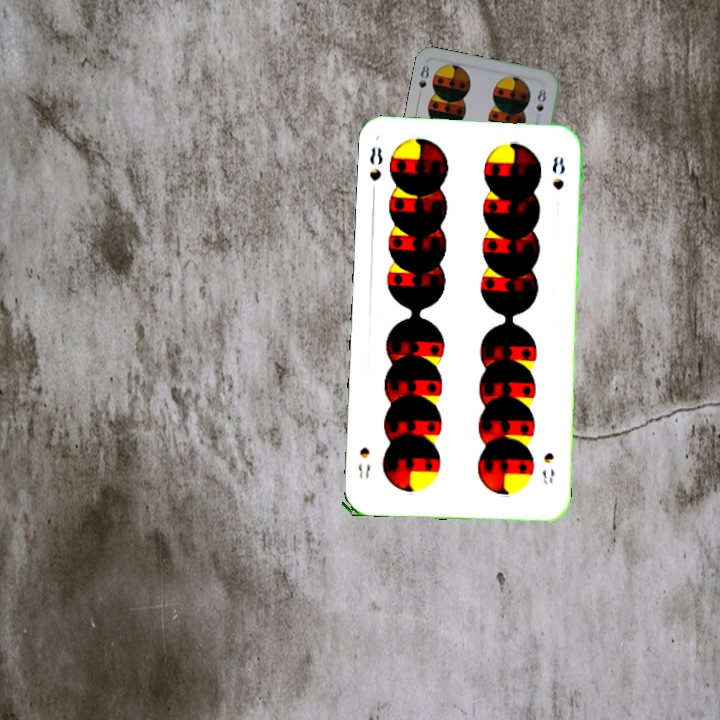S8: (365, 143, 386, 183), (537, 448, 557, 487), (414, 61, 432, 101)
